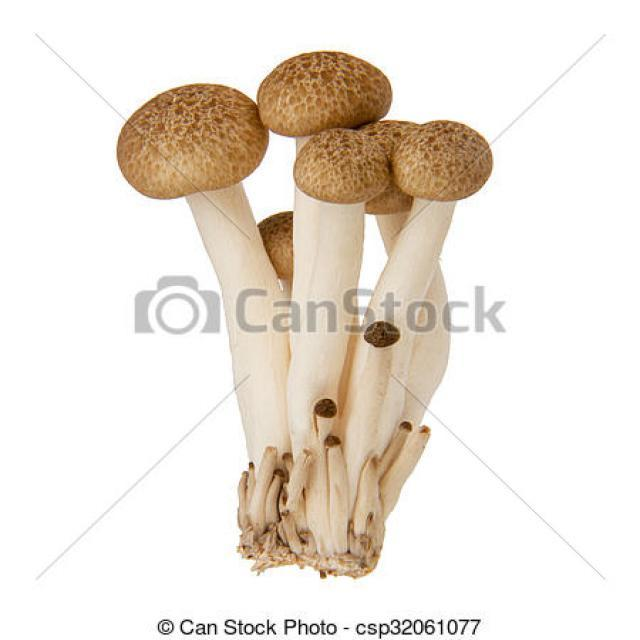Hypsizygus marmoreus: (116, 50, 494, 575)
